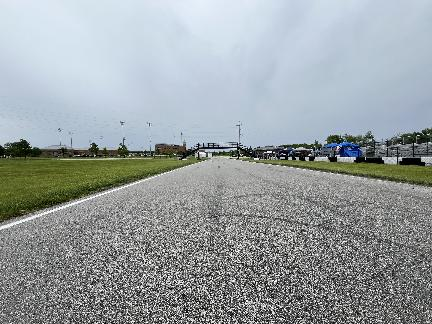Grass: (0, 159, 198, 221), (242, 159, 431, 186)
Lane: (0, 159, 431, 323)
